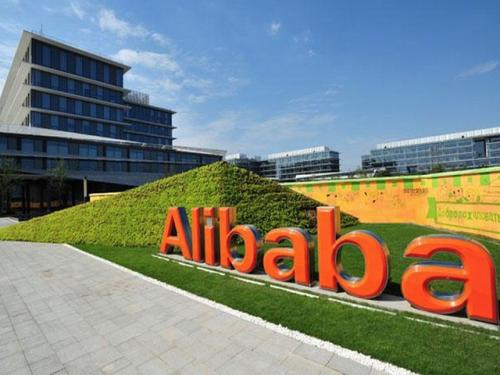alibaba: (154, 199, 500, 328)
